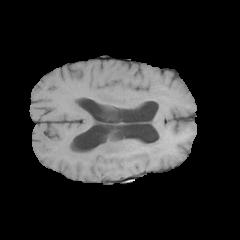glioma: (58, 136, 165, 165)
